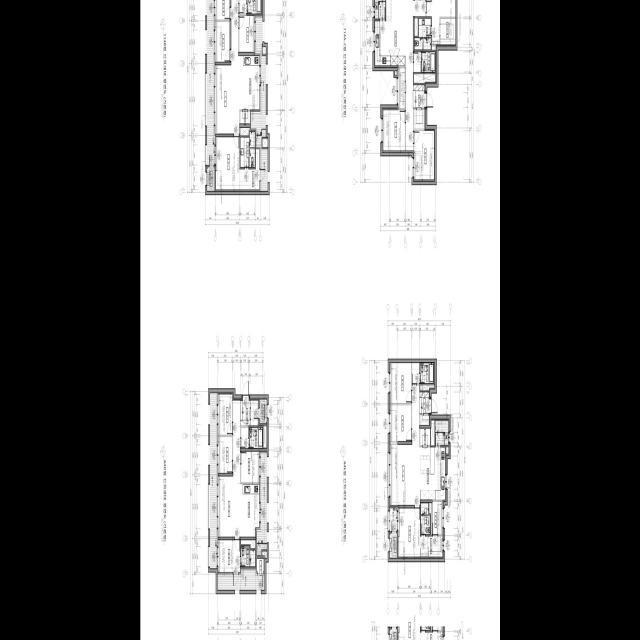background: (140, 0, 500, 640)
space_balconi: (250, 16, 266, 145), (206, 0, 214, 165), (209, 393, 216, 568), (257, 453, 267, 555), (217, 570, 264, 590), (435, 421, 448, 445), (260, 149, 267, 191), (375, 0, 385, 19), (389, 508, 396, 531)
space_bedroom: (426, 0, 455, 45), (215, 137, 239, 191), (414, 131, 434, 181), (382, 110, 405, 152), (390, 363, 411, 403), (390, 405, 411, 441), (218, 540, 240, 572), (218, 394, 232, 435), (215, 21, 229, 62), (239, 16, 254, 52), (218, 437, 232, 473)
space_dressroom: (239, 147, 259, 191), (440, 19, 455, 45), (428, 536, 442, 557)
space_front: (420, 392, 430, 425), (413, 85, 425, 108), (240, 400, 250, 426)
space_kitchen: (375, 21, 405, 66), (420, 447, 445, 500), (239, 56, 259, 110), (240, 484, 259, 537)
space_living_room: (386, 0, 425, 152), (390, 384, 420, 505), (215, 0, 239, 134), (218, 400, 240, 537)
space_other: (398, 508, 428, 557), (241, 452, 259, 483), (432, 502, 442, 535), (398, 67, 405, 108), (215, 0, 229, 20), (414, 109, 425, 129), (250, 400, 258, 426), (414, 74, 435, 83), (412, 363, 420, 383), (420, 429, 430, 445), (241, 428, 248, 448), (413, 52, 420, 72), (240, 111, 250, 124), (240, 540, 255, 548), (239, 0, 246, 14), (257, 559, 263, 573), (240, 128, 250, 136), (431, 420, 434, 445), (420, 385, 434, 390), (429, 503, 431, 535), (263, 426, 266, 447), (262, 139, 267, 147), (262, 552, 267, 558), (262, 47, 266, 54), (431, 46, 436, 50), (446, 447, 448, 454), (395, 71, 396, 75)
space_outdoor_room: (389, 533, 397, 558), (259, 399, 266, 423), (207, 167, 214, 191)
space_toilet: (240, 132, 255, 167), (414, 18, 430, 50), (241, 546, 255, 567), (421, 52, 435, 72), (421, 503, 430, 534), (249, 427, 262, 448), (420, 363, 433, 383), (247, 0, 261, 14)
